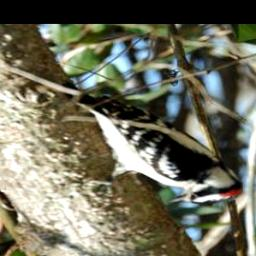Woodpecker: (75, 93, 243, 206)
